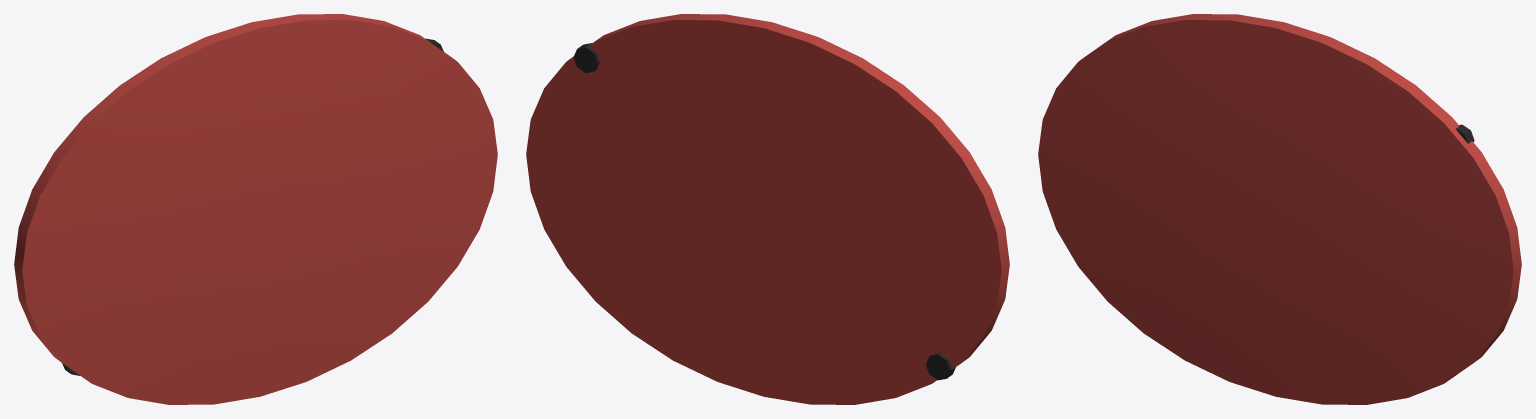
The model's file is oval_lod1.glb.
The picture shows the model from 3 angles, left to right: view 1: azimuth 30°, elevation 25°; view 2: azimuth 150°, elevation 25°; view 3: azimuth 330°, elevation 25°; orthographic projection.
Visible parts, largest first — view 1: oval_lod1; view 2: oval_lod1; view 3: oval_lod1.
Part boxes in pixels (box(x1,y1,x2,y2)): oval_lod1: box(14, 14, 497, 404); oval_lod1: box(526, 14, 1009, 404); oval_lod1: box(1038, 14, 1521, 404).
Bounding box in the file's own units: 0.27 × 0.2 × 0.0138.
